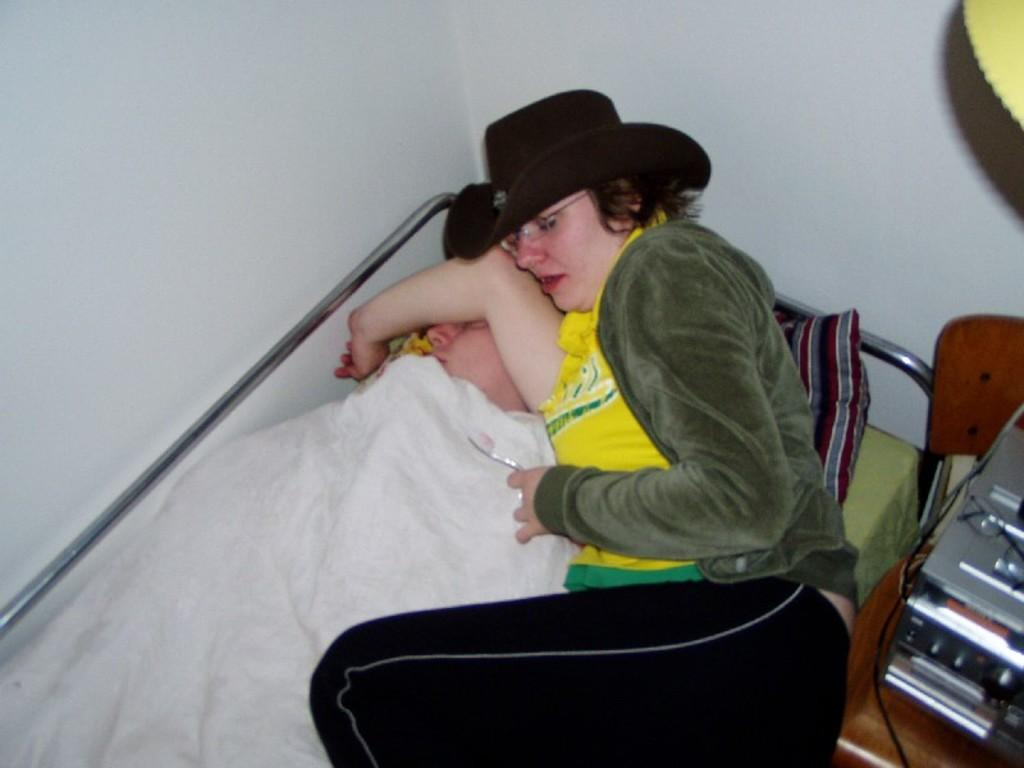Hat: (446, 84, 712, 257)
